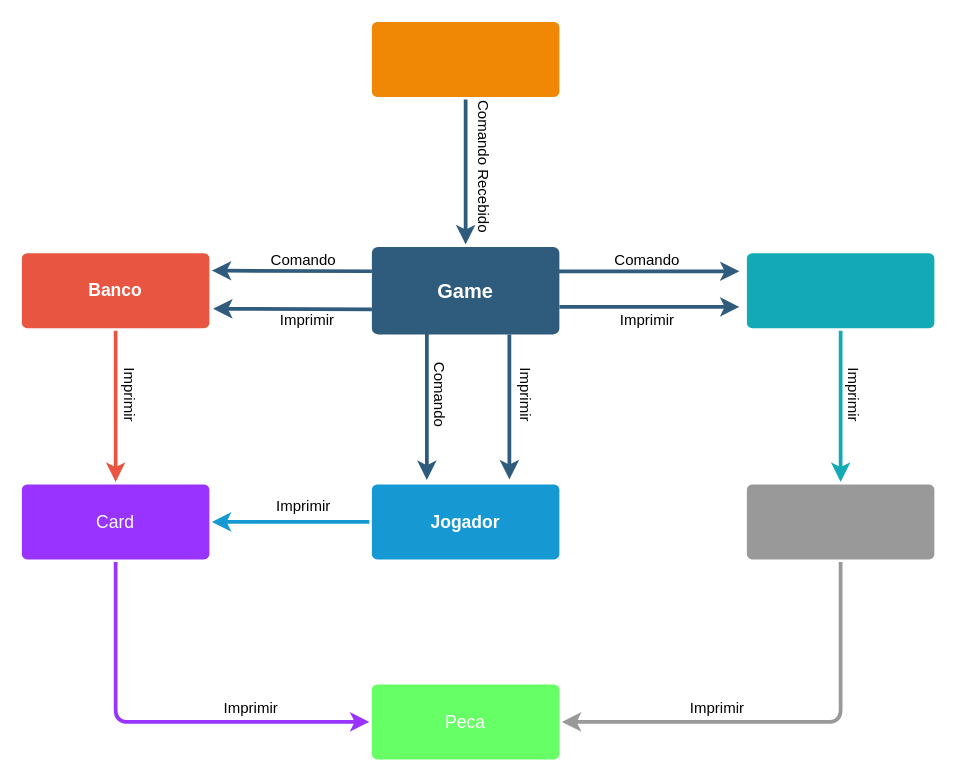
Some shapes in this 955 by 780 pixel diagram are drawn without their labels. Each missing label, with the centre of its shape:
"Tabuleiro" belongs at point 840,290.
"Teclado" belongs at point 465,58.
"Tile" belongs at point 840,521.
